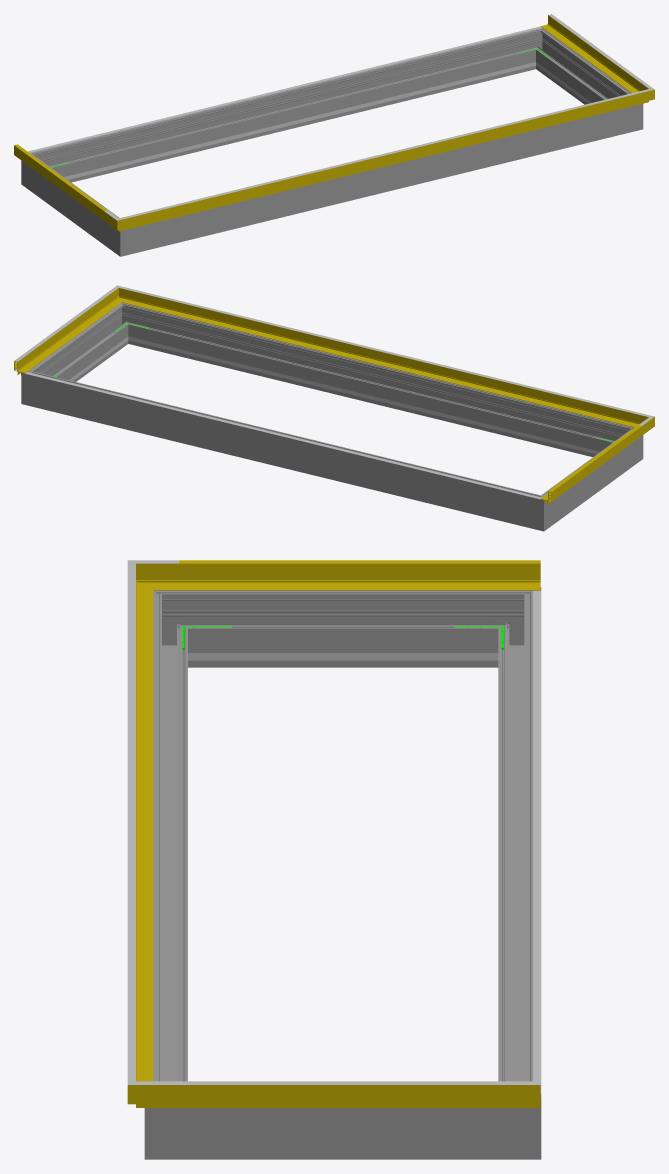
The picture shows the model from 3 angles, top to bottom: view 1: azimuth 30°, elevation 25°; view 2: azimuth 150°, elevation 25°; view 3: azimuth 270°, elevation 25°; orthographic projection. The views are drawn at different scales.
Parts seen in each view (by area): view 1: 3DGeom-276, 3DGeom-298, 3DGeom-56, 3DGeom-297, 3DGeom-244, 3DGeom-268, 3DGeom-58, 3DGeom-220, 3DGeom-66, 3DGeom-50, 3DGeom-270, 3DGeom-284 (+5 smaller); view 2: 3DGeom-298, 3DGeom-276, 3DGeom-56, 3DGeom-297, 3DGeom-268, 3DGeom-239, 3DGeom-58, 3DGeom-220, 3DGeom-66, 3DGeom-278, 3DGeom-50, 3DGeom-284 (+5 smaller); view 3: 3DGeom-268, 3DGeom-276, 3DGeom-298, 3DGeom-297, 3DGeom-50, 3DGeom-56, 3DGeom-58, 3DGeom-220, 3DGeom-66, 3DGeom-284, 3DGeom-290, 3DGeom-278 (+6 smaller).
Boxes of the visible parts, x1,y1,x2,y2 form: 3DGeom-276: [45, 32, 532, 182]; 3DGeom-298: [142, 109, 620, 251]; 3DGeom-56: [137, 95, 632, 226]; 3DGeom-297: [538, 36, 626, 104]; 3DGeom-244: [72, 67, 514, 178]; 3DGeom-268: [34, 161, 114, 246]; 3DGeom-58: [540, 15, 638, 92]; 3DGeom-220: [28, 26, 541, 152]; 3DGeom-66: [138, 93, 631, 215]; 3DGeom-50: [14, 145, 104, 220]; 3DGeom-270: [107, 214, 142, 256]; 3DGeom-284: [523, 28, 553, 70]; 3DGeom-298: [132, 307, 618, 456]; 3DGeom-276: [43, 375, 525, 525]; 3DGeom-56: [133, 292, 630, 425]; 3DGeom-297: [38, 310, 125, 381]; 3DGeom-268: [550, 435, 630, 521]; 3DGeom-239: [150, 342, 591, 453]; 3DGeom-58: [14, 296, 115, 375]; 3DGeom-220: [25, 372, 541, 499]; 3DGeom-66: [138, 291, 631, 412]; 3DGeom-278: [521, 489, 556, 531]; 3DGeom-50: [541, 426, 641, 504]; 3DGeom-284: [21, 364, 47, 409]; 3DGeom-268: [196, 590, 489, 667]; 3DGeom-276: [498, 609, 532, 1081]; 3DGeom-298: [153, 609, 187, 1081]; 3DGeom-297: [196, 1108, 489, 1159]; 3DGeom-50: [179, 563, 540, 590]; 3DGeom-56: [136, 598, 153, 1081]; 3DGeom-58: [179, 1085, 540, 1107]; 3DGeom-220: [533, 590, 541, 1093]; 3DGeom-66: [127, 582, 135, 1062]; 3DGeom-284: [489, 1075, 541, 1159]; 3DGeom-290: [144, 1075, 196, 1159]; 3DGeom-278: [489, 587, 541, 667].
Bounding box in the file's own units: 3.66 × 0.2669 × 1.22.
